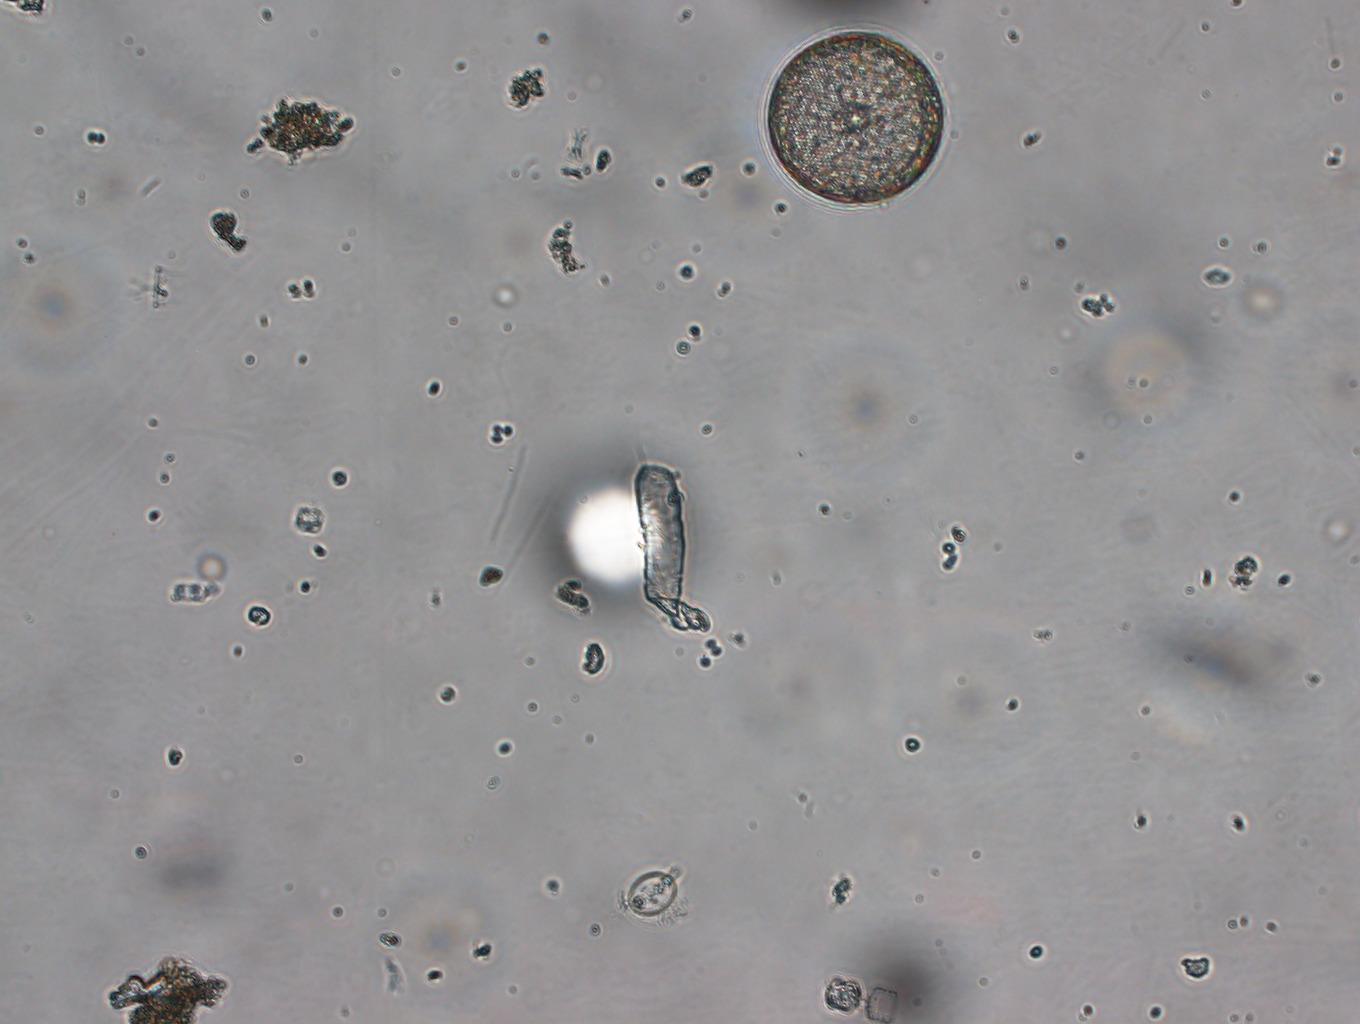coscinodiscus: (754, 26, 958, 207)
